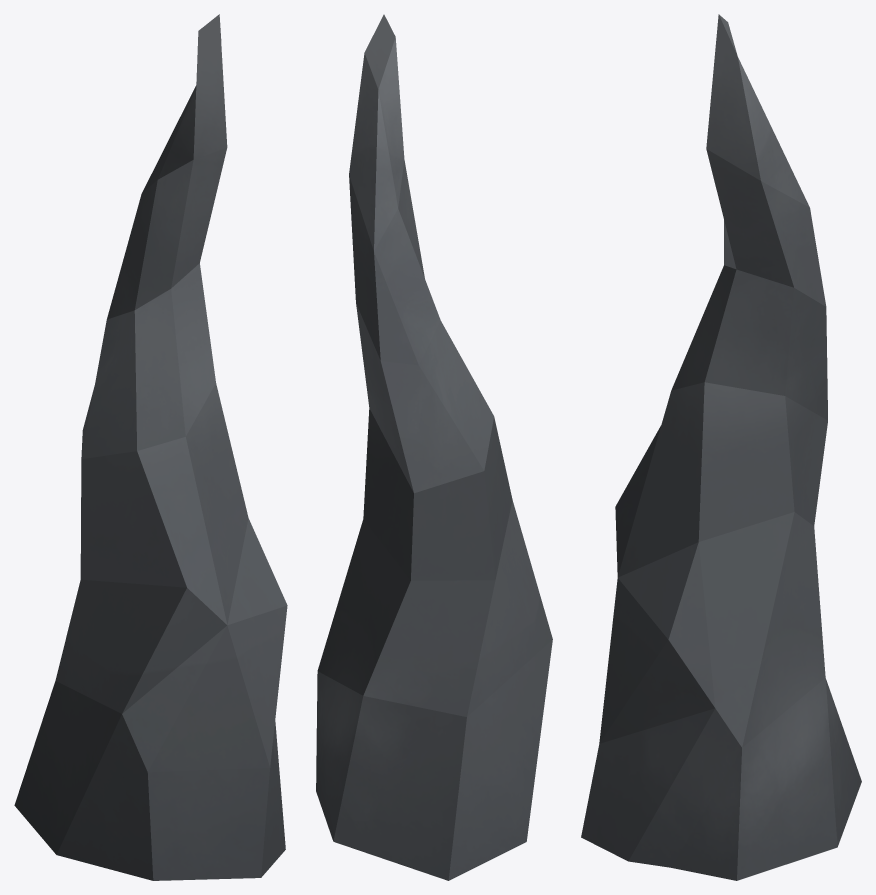
File: Stalagmite_Tall.fbx
3 views of the same model, side by side, from view 1: azimuth 30°, elevation 25°; view 2: azimuth 150°, elevation 25°; view 3: azimuth 270°, elevation 25° (orthographic). The views are drawn at different scales.
Visible parts, largest first — view 1: Stalagmite_Tall; view 2: Stalagmite_Tall; view 3: Stalagmite_Tall.
Part boxes in pixels (left/top/right/bottom): Stalagmite_Tall: left=14, top=14, right=287, bottom=880; Stalagmite_Tall: left=316, top=14, right=552, bottom=880; Stalagmite_Tall: left=581, top=14, right=861, bottom=880.
Size of the model in its own units: 60.2 by 215 by 65.55.
